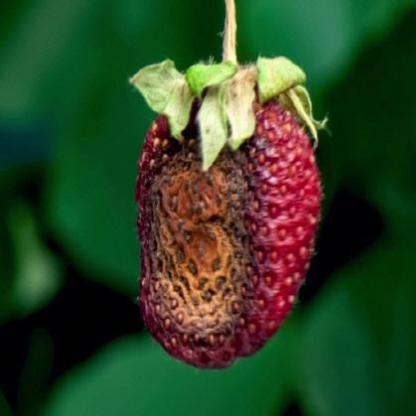Strawberry_Anthracnose_Fruit_Rot: (136, 100, 291, 366)
